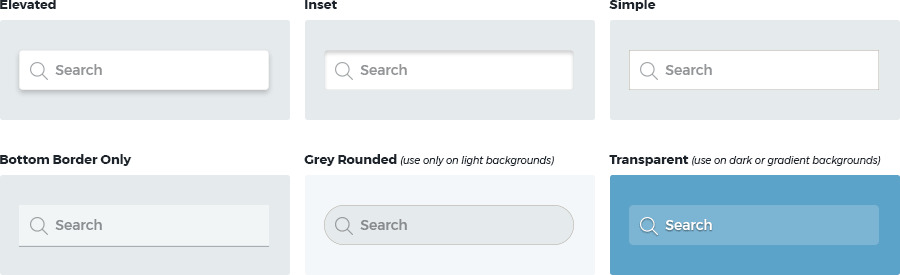field: (17, 203, 271, 248), (18, 49, 270, 92), (629, 204, 881, 247), (323, 203, 574, 246), (629, 49, 879, 91), (323, 50, 573, 90)
